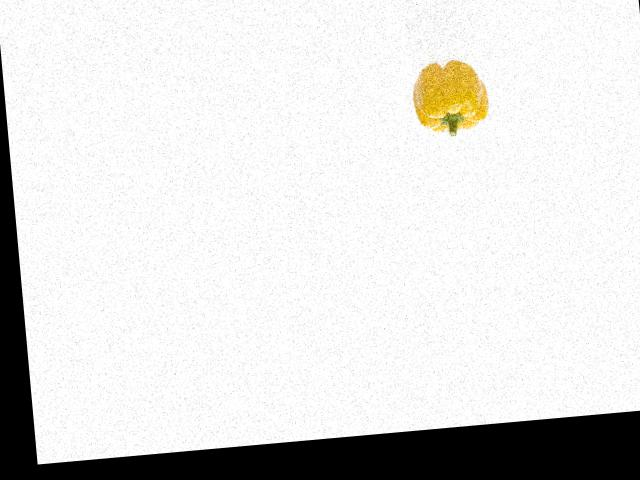bell_pepper: (410, 55, 496, 142)
